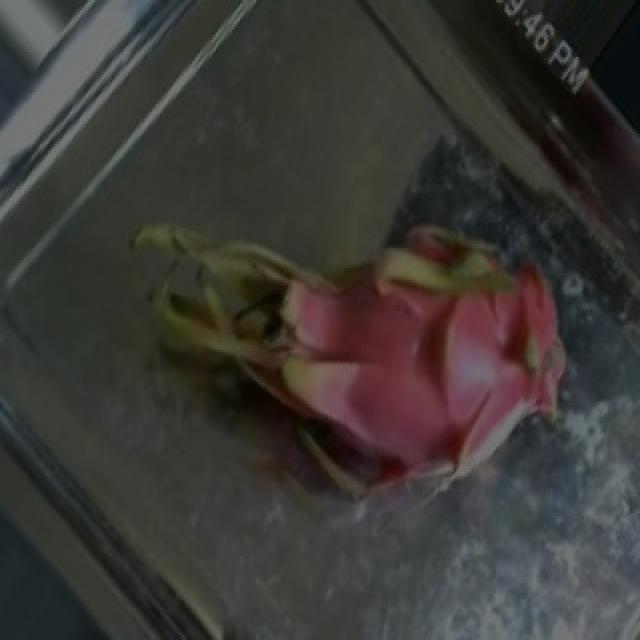fruit: (206, 107, 632, 540)
